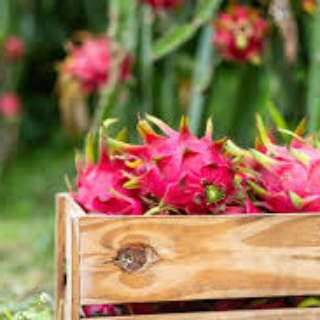thanh_long: (121, 117, 236, 209)
